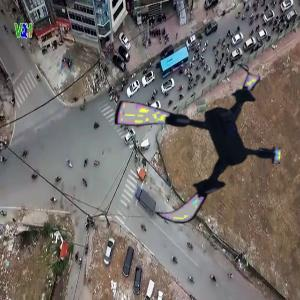drone: (113, 58, 283, 228)
